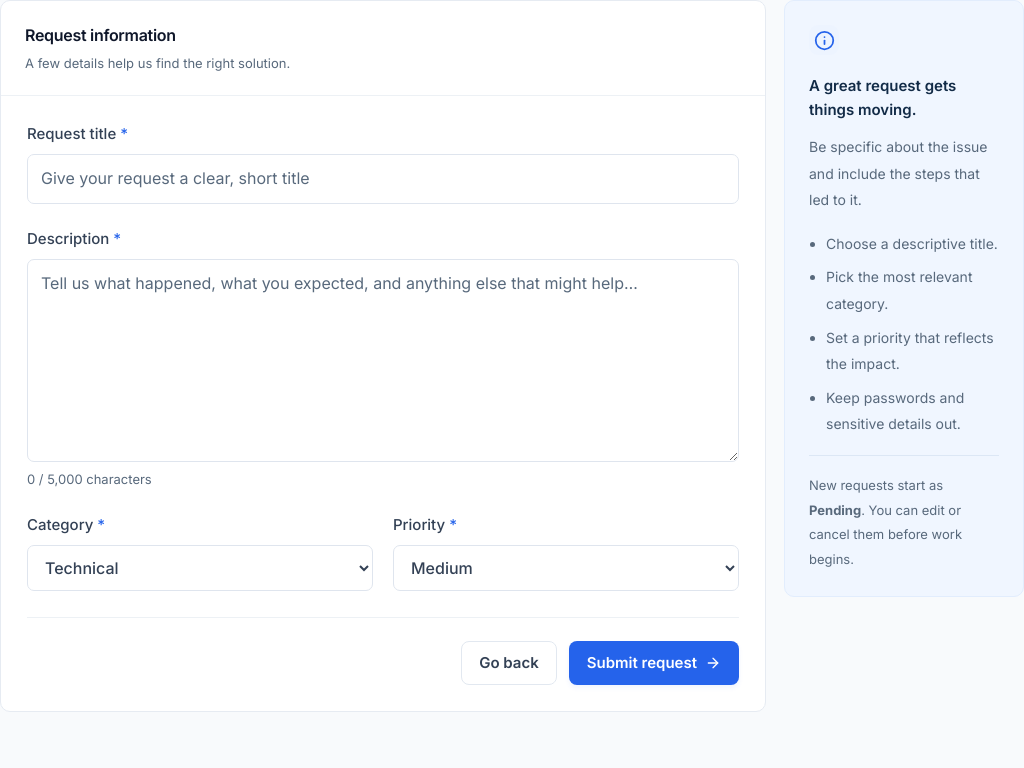
Test: request form › rejects missing details before making an API submission
This screenshot has width=1024, height=768.
Click the button "Submit request": point(654, 663) [569,641,739,685]
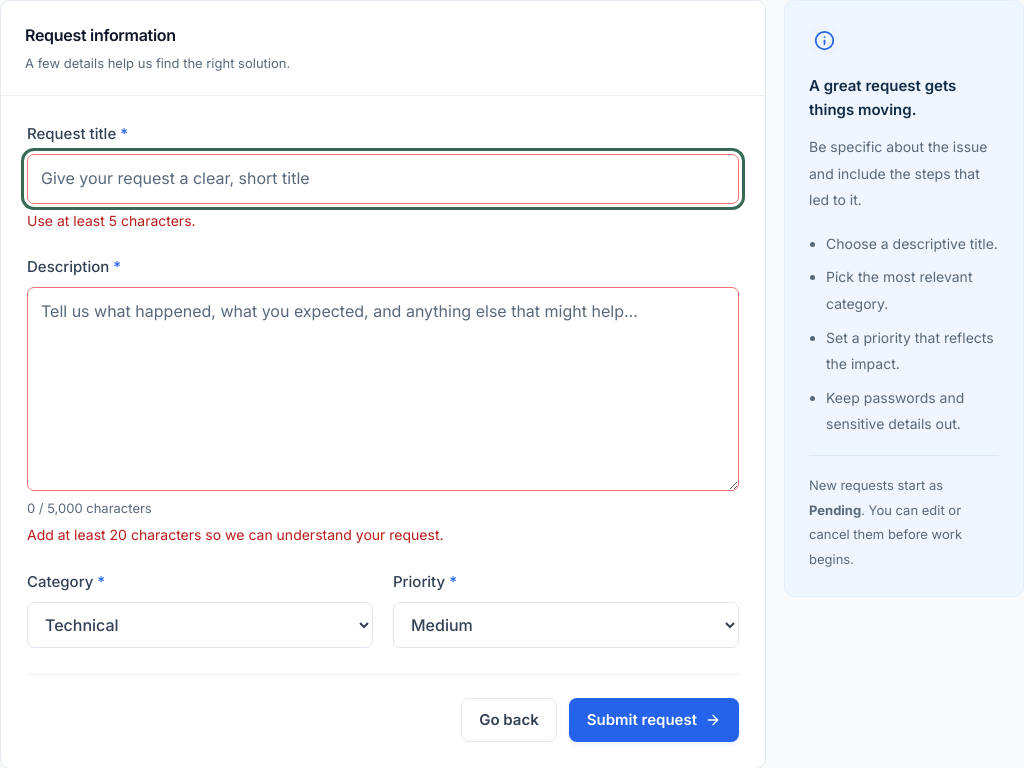
Result: the text "Use at least 5 characters." is shown at [27,212,196,229]
Result: the text "Add at least 20 characters" is shown at [27,526,444,543]
